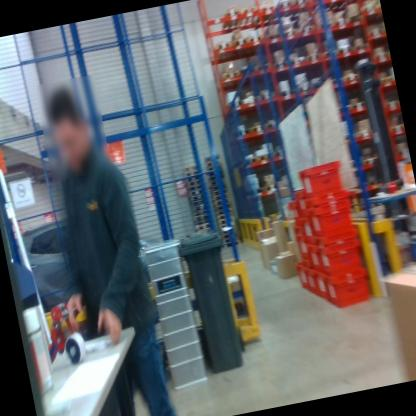forklift: (347, 46, 416, 241)
pallet: (209, 31, 235, 65), (249, 56, 277, 84), (237, 0, 261, 31), (219, 6, 244, 35), (246, 28, 267, 61), (228, 35, 251, 61), (254, 0, 278, 24), (219, 64, 240, 90), (274, 87, 299, 106), (229, 125, 251, 144), (238, 63, 257, 85), (254, 89, 277, 107), (281, 25, 301, 44), (263, 29, 284, 47), (270, 55, 289, 74), (298, 82, 315, 103), (244, 183, 265, 199), (222, 93, 243, 109), (272, 0, 294, 15), (263, 178, 282, 195), (247, 120, 267, 136), (241, 150, 258, 167), (255, 147, 273, 163), (265, 118, 285, 132), (287, 56, 305, 71), (270, 143, 286, 159), (210, 188, 229, 198), (223, 238, 241, 248), (215, 203, 233, 213), (207, 173, 226, 182), (184, 178, 202, 187), (208, 178, 226, 187), (220, 223, 236, 233), (221, 230, 237, 240), (195, 222, 212, 231), (218, 217, 235, 226), (213, 199, 232, 207), (217, 213, 235, 221), (182, 168, 199, 176), (194, 217, 211, 225), (213, 194, 230, 202), (207, 168, 224, 176), (206, 163, 223, 171), (222, 237, 241, 244), (187, 187, 203, 195), (216, 209, 234, 216), (209, 184, 227, 191), (189, 193, 204, 201), (193, 212, 208, 220), (204, 155, 219, 163), (183, 174, 200, 181), (186, 183, 203, 190), (205, 160, 222, 167), (182, 163, 198, 170), (191, 204, 207, 211)
small_load_carrier: (295, 156, 348, 201), (321, 265, 373, 310), (314, 230, 365, 274), (305, 195, 356, 237), (287, 181, 313, 220), (305, 244, 331, 280), (303, 266, 323, 306), (295, 258, 314, 298), (313, 270, 334, 302), (300, 216, 321, 248), (293, 228, 310, 265), (287, 198, 304, 230)
